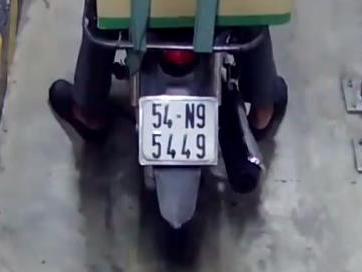num_plate: (137, 96, 217, 165)
